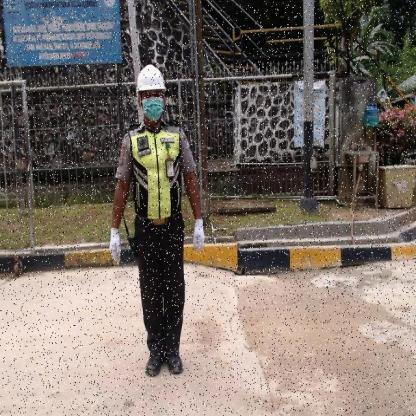boots: (164, 352, 186, 379), (144, 350, 162, 381)
gloves: (107, 223, 124, 270), (191, 216, 207, 256)
helmet: (136, 64, 167, 91)
mask: (142, 99, 165, 120)
